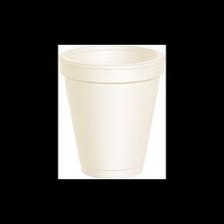paper_cup: (58, 43, 166, 178)
